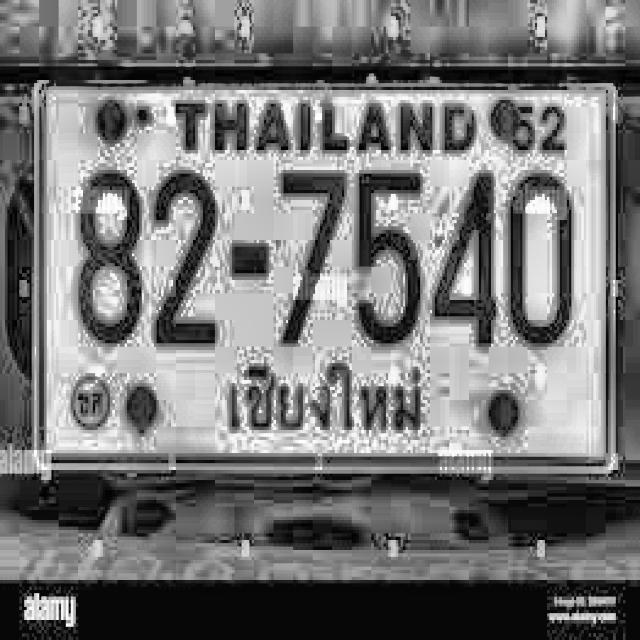license-plate: (24, 62, 624, 491)
